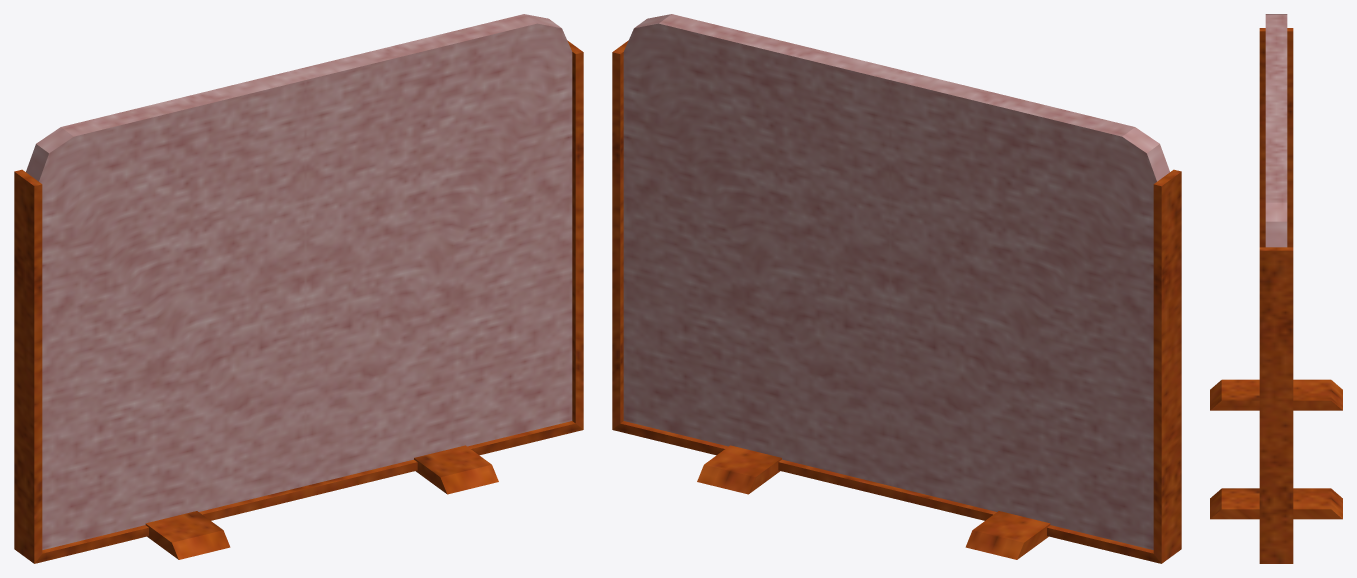
The model's file is divider_veneer_red_low_half.obj.
3 renders of one model, left to right at view 1: azimuth 30°, elevation 25°; view 2: azimuth 150°, elevation 25°; view 3: azimuth 270°, elevation 25°, orthographic. The views are drawn at different scales.
Parts seen in each view (by area): view 1: divider_veneer_red_low_half; view 2: divider_veneer_red_low_half; view 3: divider_veneer_red_low_half.
Boxes of the visible parts, x1,y1,x2,y2 form: divider_veneer_red_low_half: [14, 14, 583, 563]; divider_veneer_red_low_half: [612, 14, 1181, 563]; divider_veneer_red_low_half: [1210, 14, 1342, 563].
Bounding box in the file's own units: 2.07 × 1.5 × 0.523.
